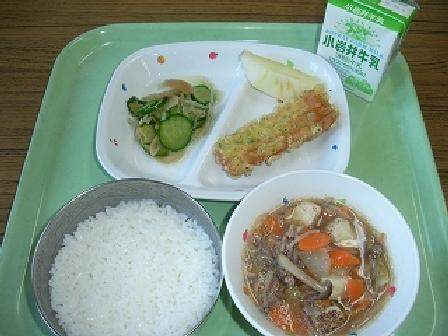Apple: (231, 41, 317, 98)
Milk: (306, 3, 419, 80)
Rice: (33, 177, 227, 333)
Salad: (113, 68, 208, 152)
snacks: (210, 95, 342, 175)
vegetable soup: (226, 178, 411, 327)
